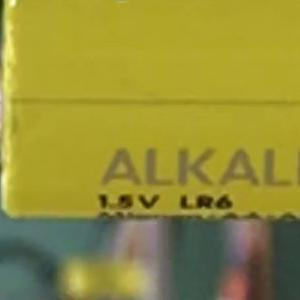ALK: (89, 141, 197, 219)
